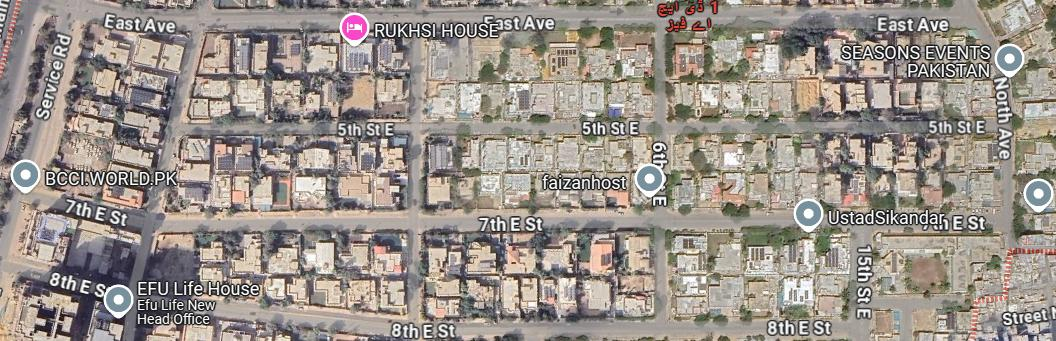Buildings: (668, 29, 1005, 124), (42, 23, 189, 216), (671, 131, 1000, 210), (145, 231, 408, 317), (425, 27, 652, 120), (187, 30, 417, 121), (427, 233, 657, 320), (425, 133, 660, 217), (165, 137, 412, 214), (669, 229, 851, 318), (11, 202, 145, 304)
